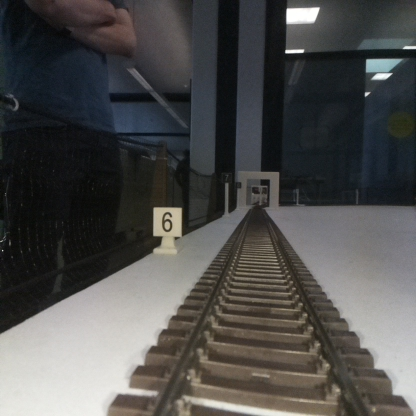white-stop-6: (153, 207, 181, 253)
